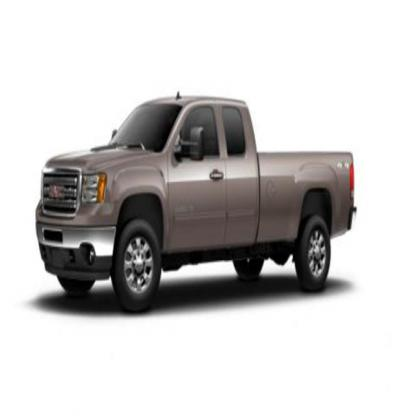Truck: (35, 91, 357, 314)
